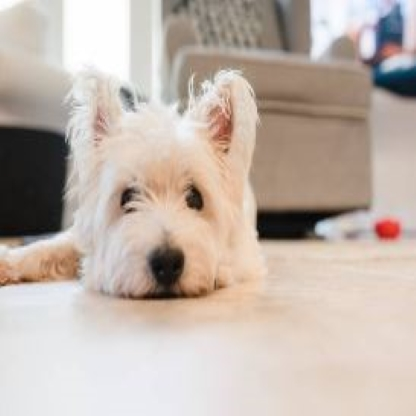maltese: (11, 66, 277, 307)
